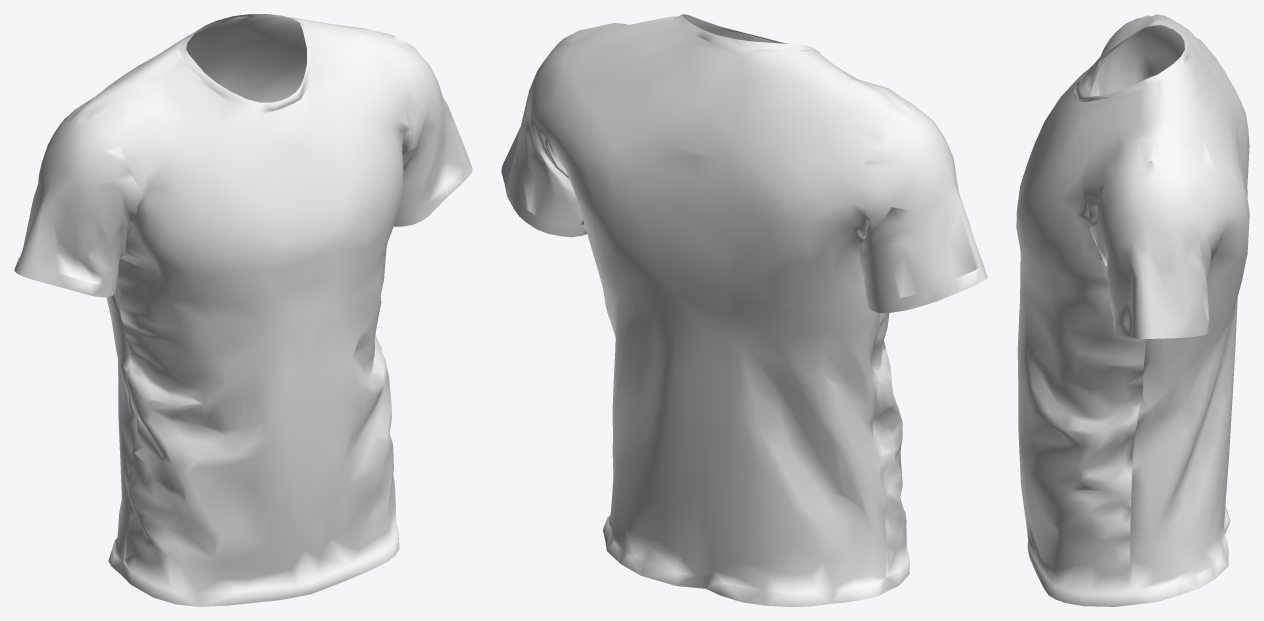
The model's file is tshirtman.glb.
The picture shows the model from 3 angles, left to right: view 1: azimuth 30°, elevation 25°; view 2: azimuth 150°, elevation 25°; view 3: azimuth 270°, elevation 25°; orthographic projection. The views are drawn at different scales.
Visible parts, largest first — view 1: tshirt_front, tshirt_back; view 2: tshirt_front; view 3: tshirt_front, tshirt_back.
Part boxes in pixels (box(x1,y1,x2,y2)): tshirt_front: box(14, 14, 472, 606); tshirt_back: box(122, 329, 138, 562); tshirt_front: box(501, 14, 987, 606); tshirt_front: box(1016, 14, 1249, 606); tshirt_back: box(1128, 339, 1144, 591).
Bounding box in the file's own units: 48.51 × 53.14 × 22.05.
Materials: 1 (1 with a texture image).
